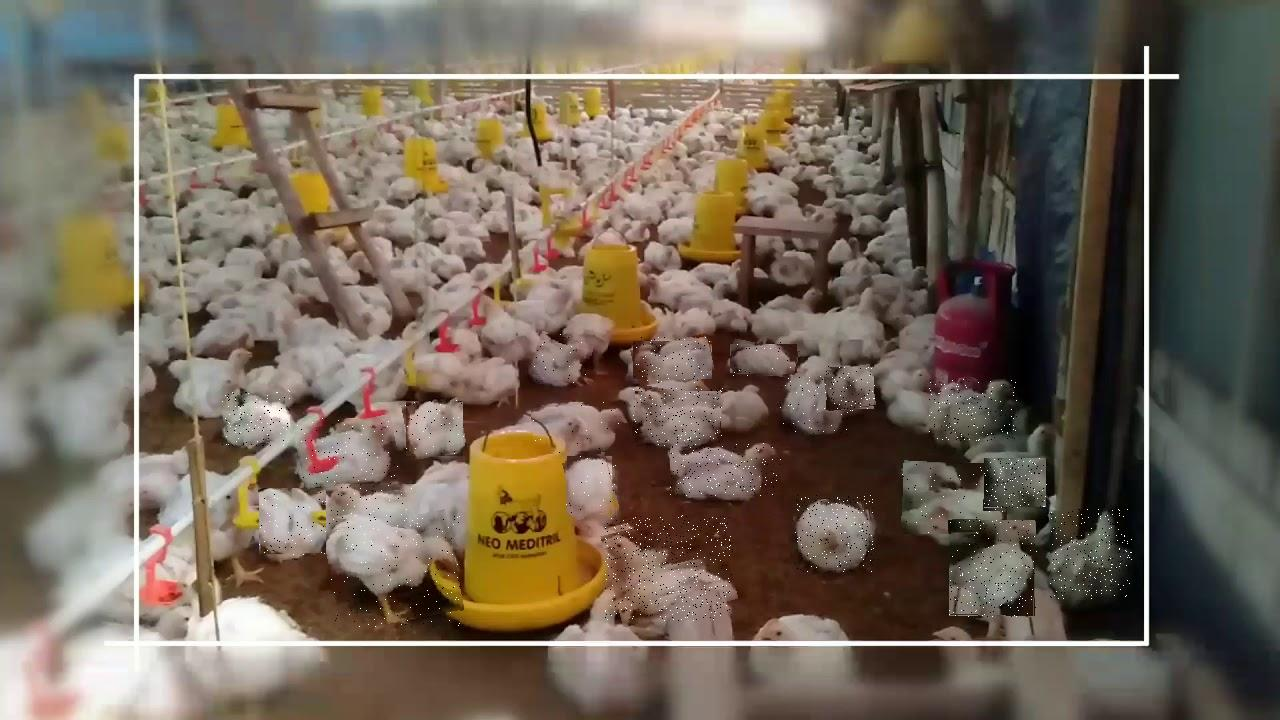chicken: (327, 515, 460, 628), (605, 515, 733, 621), (950, 520, 1038, 617), (902, 462, 1008, 535), (1050, 510, 1132, 600), (297, 419, 399, 486), (795, 495, 874, 572), (671, 444, 782, 497), (930, 379, 1018, 442), (633, 388, 723, 446), (531, 403, 629, 454), (259, 488, 326, 555), (780, 376, 848, 434), (222, 390, 290, 446), (632, 337, 714, 383), (332, 484, 416, 527), (404, 399, 465, 458), (566, 455, 617, 519), (985, 459, 1049, 510), (534, 334, 592, 384), (731, 341, 800, 376), (825, 366, 875, 411)
